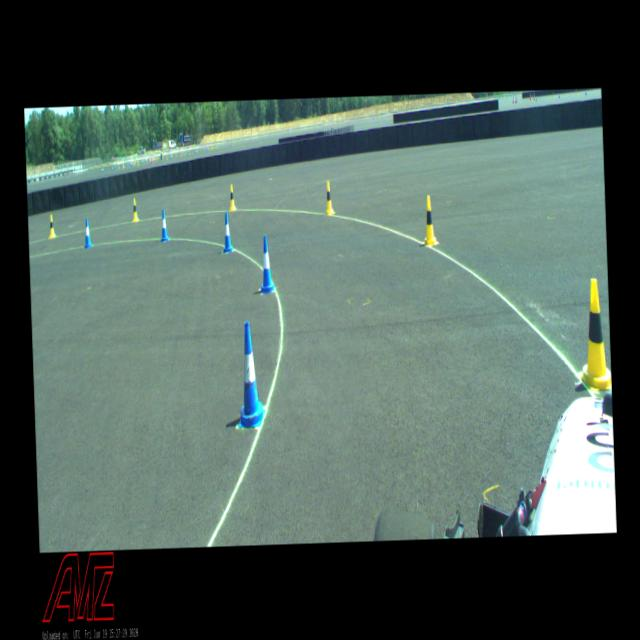blue_cone: (234, 321, 266, 427), (258, 235, 274, 294), (221, 212, 233, 252), (160, 208, 168, 242), (83, 218, 92, 247)
yellow_cone: (575, 278, 611, 390), (422, 194, 438, 246), (324, 180, 334, 214), (228, 183, 236, 210), (48, 214, 56, 238), (132, 198, 138, 222)
